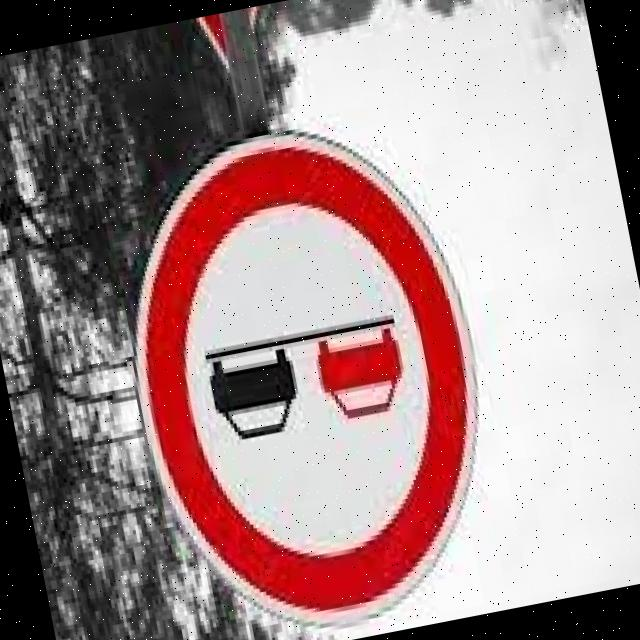no_passing: (79, 87, 532, 640)
